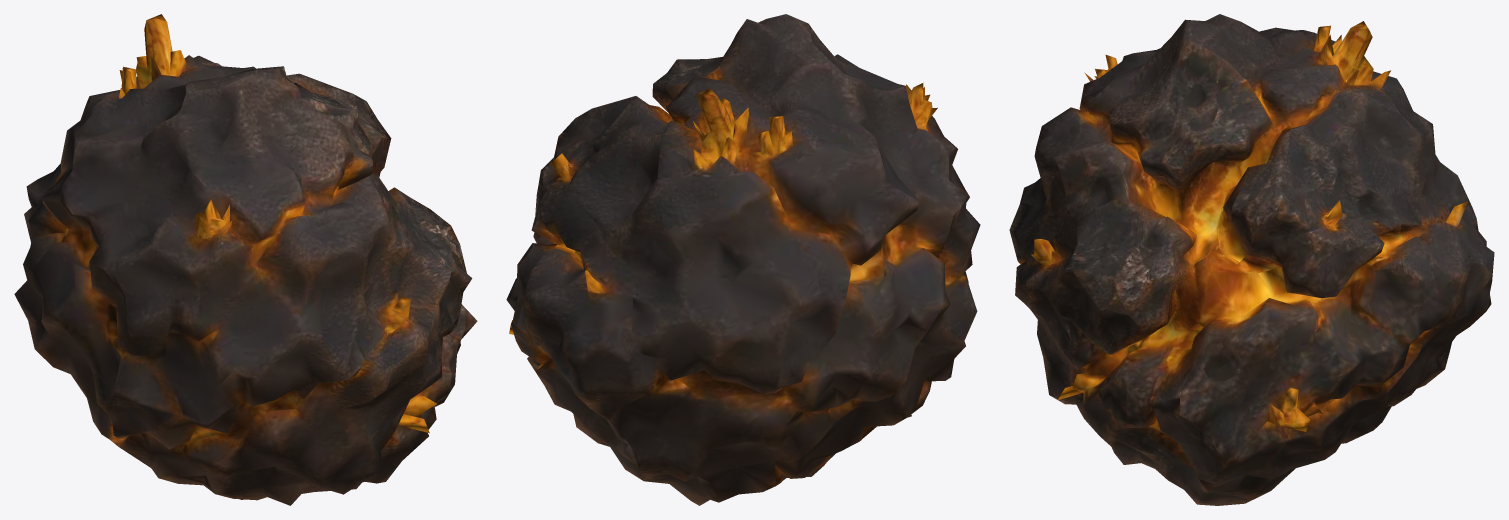
File: rock.glb
3 renders of one model, left to right at view 1: azimuth 30°, elevation 25°; view 2: azimuth 150°, elevation 25°; view 3: azimuth 270°, elevation 25°, orthographic. The views are drawn at different scales.
Parts seen in each view (by area): view 1: tripo_node_19ae0952-13f3-4d97-89b5-aa56ceef6269; view 2: tripo_node_19ae0952-13f3-4d97-89b5-aa56ceef6269; view 3: tripo_node_19ae0952-13f3-4d97-89b5-aa56ceef6269.
Boxes of the visible parts, <box> form: tripo_node_19ae0952-13f3-4d97-89b5-aa56ceef6269: <box>14,14,477,505</box>; tripo_node_19ae0952-13f3-4d97-89b5-aa56ceef6269: <box>506,14,980,505</box>; tripo_node_19ae0952-13f3-4d97-89b5-aa56ceef6269: <box>1009,14,1494,505</box>.
Bounding box in the file's own units: 0.9324 × 0.9907 × 1.
Materials: 1 (1 with a texture image).
